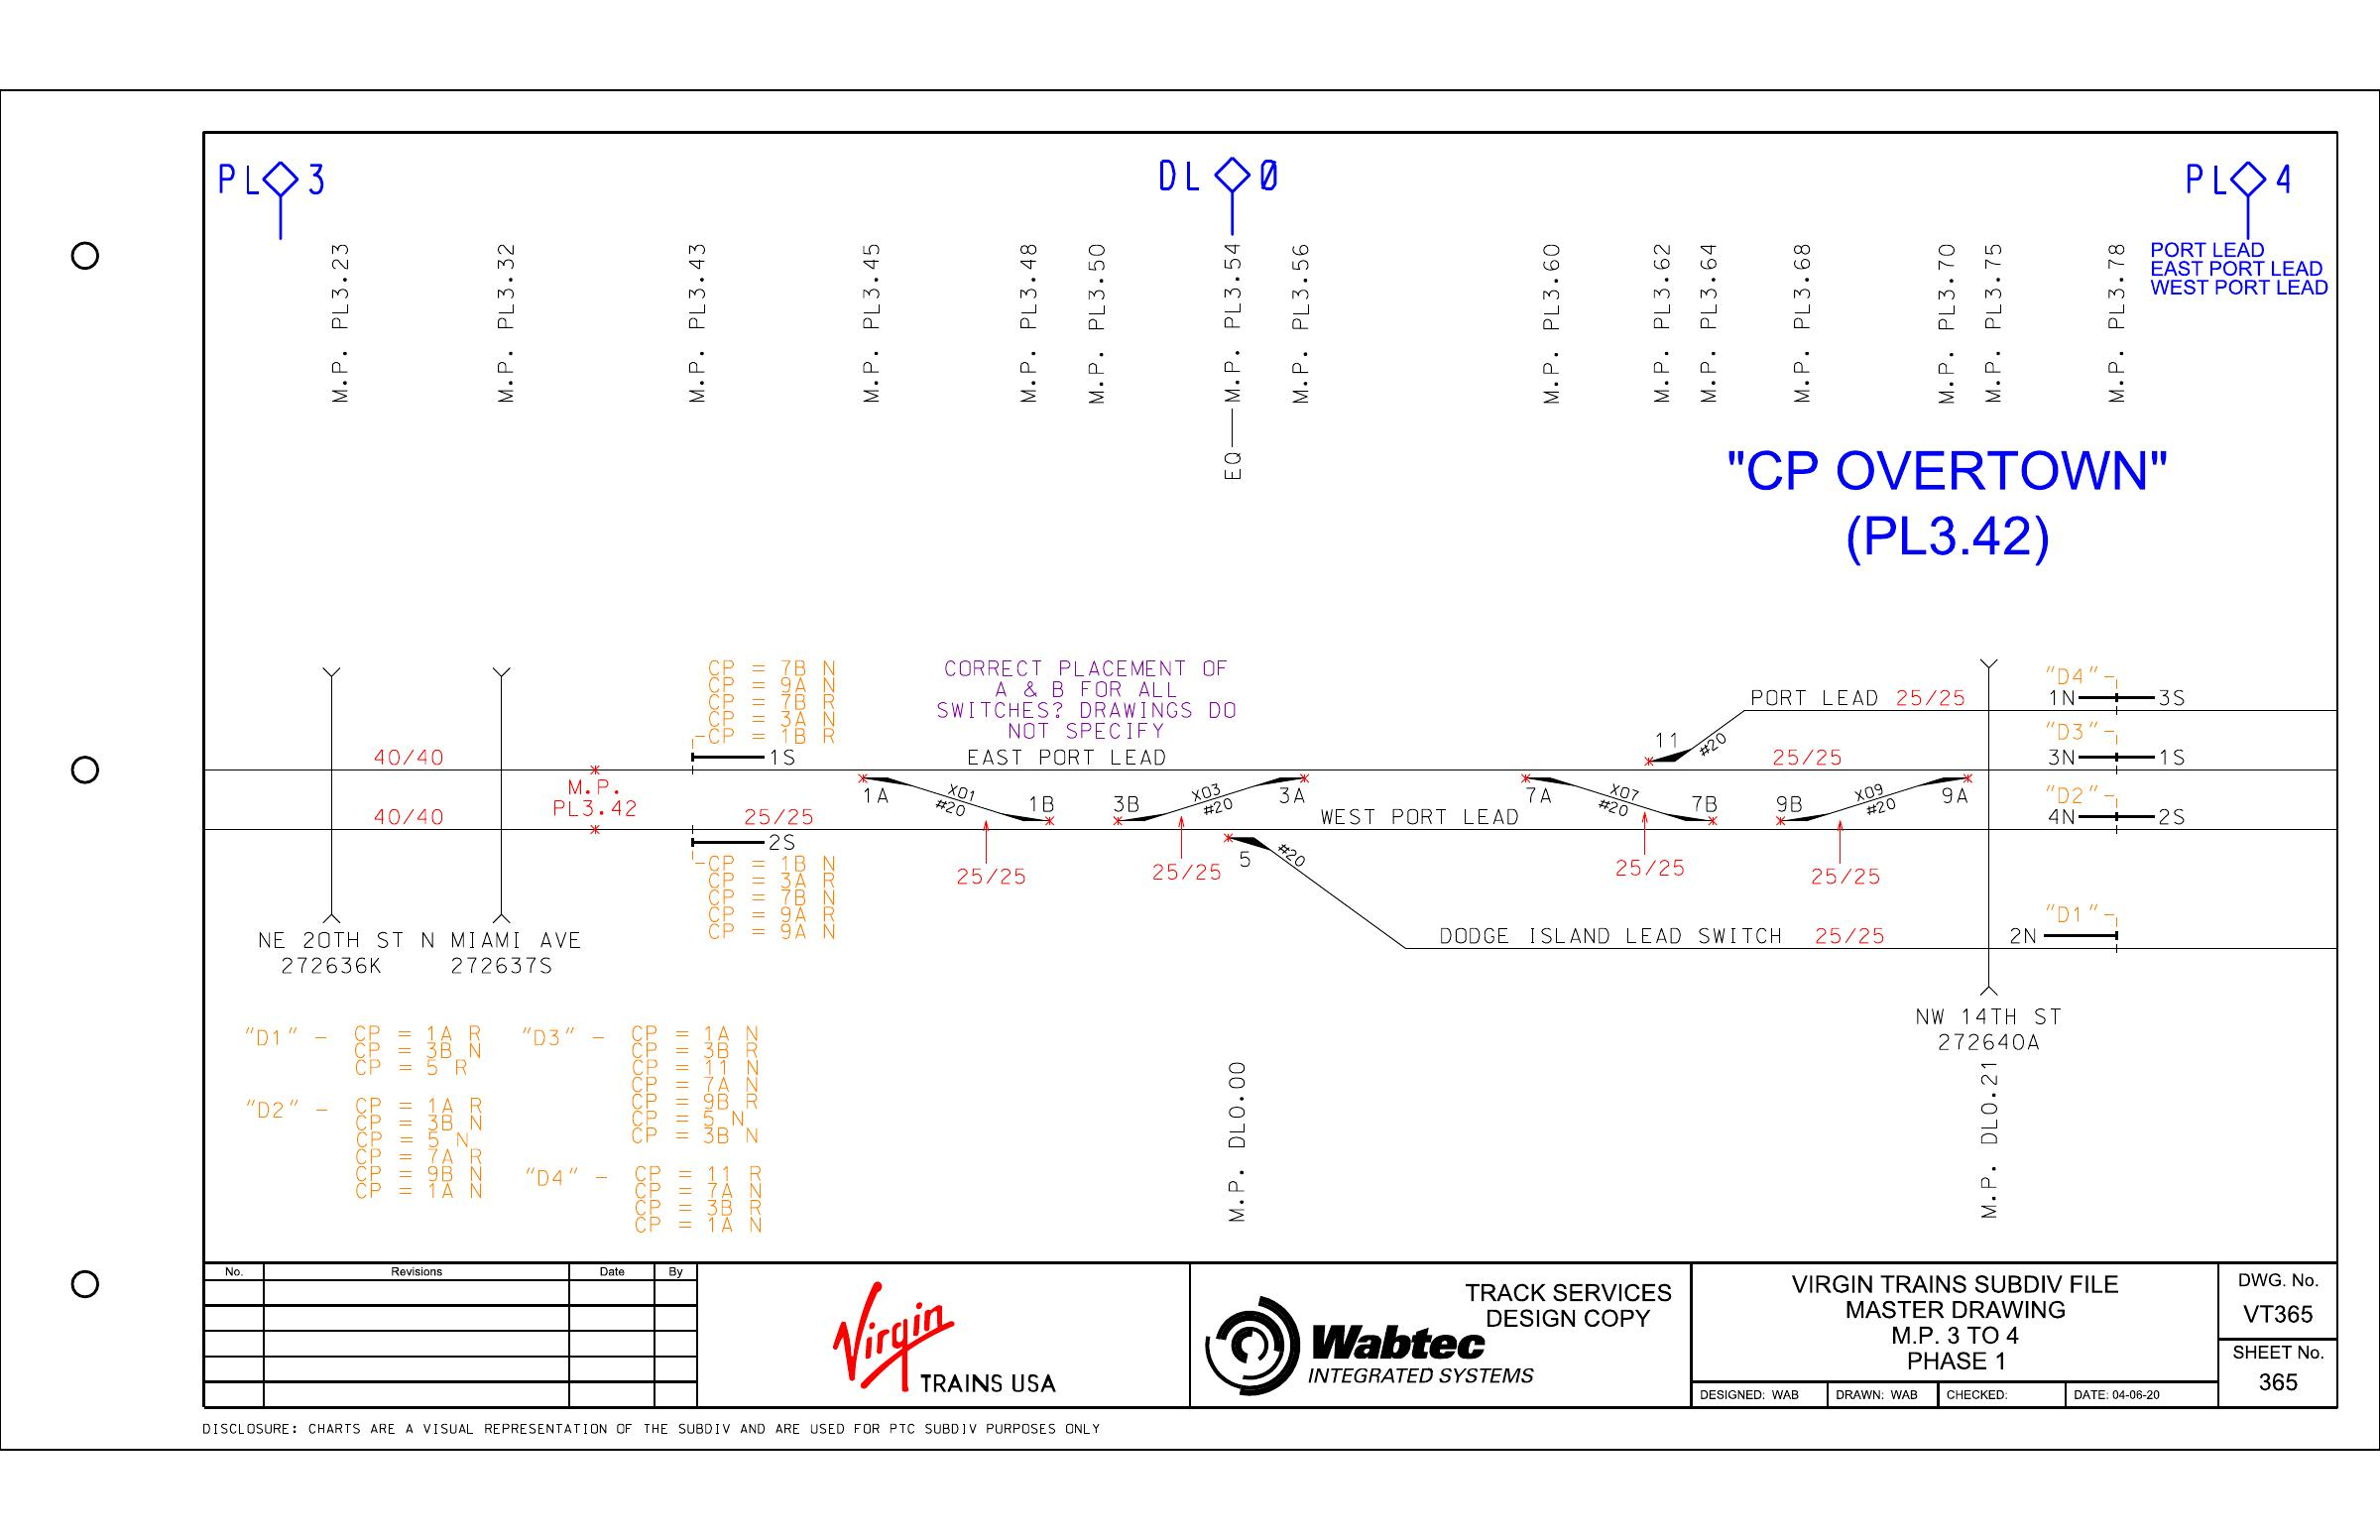crossing: (1967, 645, 2016, 1004), (309, 654, 354, 935), (479, 640, 520, 933)
crossinglabel: (1905, 995, 2094, 1067), (245, 914, 409, 995), (415, 923, 600, 994)
milepost: (2094, 227, 2141, 420), (1530, 227, 1575, 425), (482, 224, 527, 420), (1010, 224, 1053, 427), (1688, 227, 1728, 430), (1971, 232, 2014, 418), (1929, 224, 1969, 421), (677, 220, 716, 416), (1782, 224, 1821, 418), (1216, 1047, 1258, 1228), (852, 227, 890, 420), (1639, 231, 1677, 421), (321, 225, 357, 425), (1081, 224, 1115, 430), (1214, 231, 1251, 418), (1974, 1056, 2005, 1235), (1284, 232, 1313, 418)
signal: (2005, 914, 2134, 962), (687, 744, 815, 787), (680, 820, 803, 862), (2111, 796, 2196, 846), (2109, 737, 2207, 775), (2045, 798, 2125, 841), (2108, 678, 2196, 716), (2038, 680, 2127, 716), (2042, 741, 2127, 777)
switch: (850, 758, 909, 819), (1107, 779, 1159, 846), (1771, 782, 1825, 841), (1638, 721, 1690, 782), (1219, 822, 1275, 872), (1518, 756, 1566, 812), (1677, 791, 1731, 839), (1256, 765, 1317, 805), (1931, 763, 1979, 810), (1022, 787, 1058, 836)
